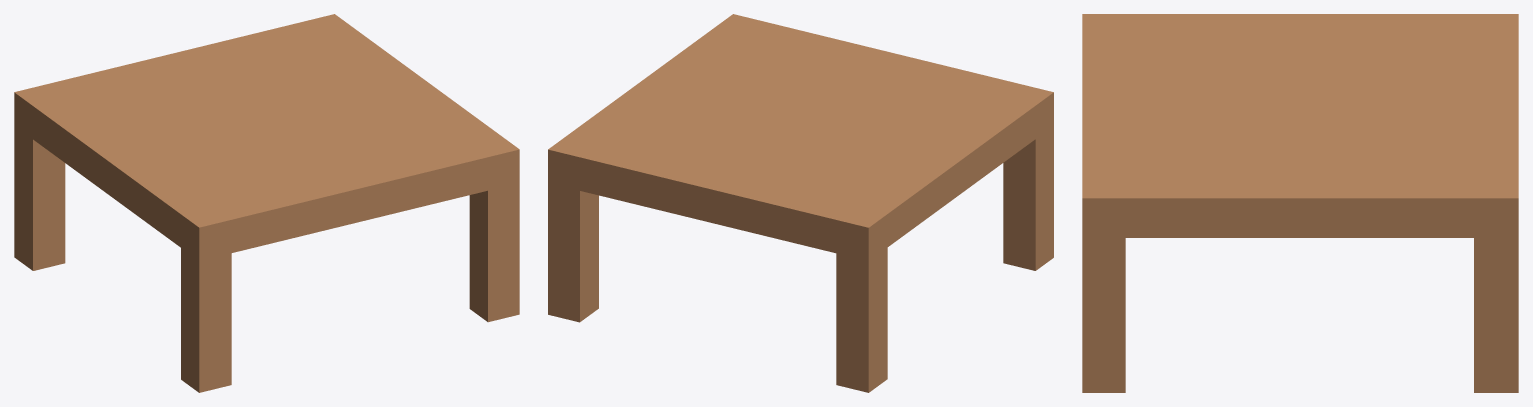
The model's file is Table.fbx.
3 renders of one model, left to right at view 1: azimuth 30°, elevation 25°; view 2: azimuth 150°, elevation 25°; view 3: azimuth 270°, elevation 25°, orthographic. The views are drawn at different scales.
Visible parts, largest first — view 1: Cube; view 2: Cube; view 3: Cube.
Part boxes in pixels (x1,y1,x2,y2): Cube: (14,14,519,392); Cube: (548,14,1053,392); Cube: (1082,14,1518,392).
Size of the model in its own units: 269 by 132 by 269.
